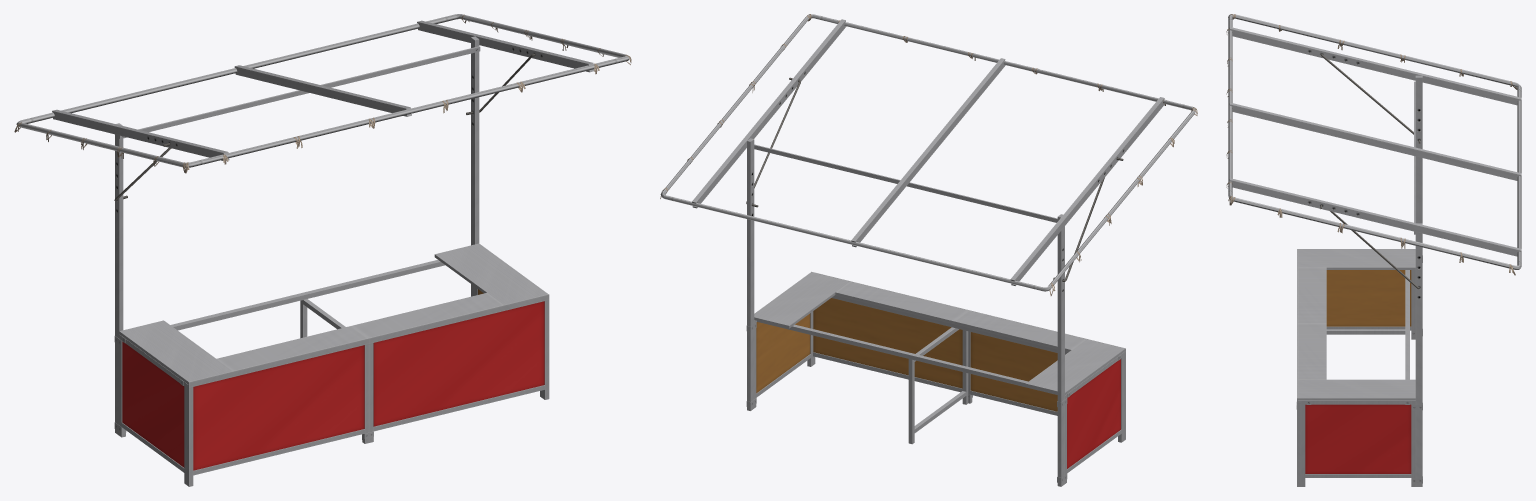
Rendered from jsf_2P_s03_c06_t04.fbx.
3 renders of one model, left to right at view 1: azimuth 30°, elevation 25°; view 2: azimuth 150°, elevation 25°; view 3: azimuth 270°, elevation 25°, orthographic. The views are drawn at different scales.
Visible parts, largest first — view 1: Base_s03_c06, Pillar2_s03, Table_2P_s03_t04, Rope_2P_s03; view 2: Base_s03_c06, Pillar2_s03, Table_2P_s03_t04, Support; view 3: Pillar2_s03, Base_s03_c06, Table_2P_s03_t04, Rope_2P_s03, Support.
Part boxes in pixels (x1,y1,x2,y2): Base_s03_c06: (114,287,549,486); Pillar2_s03: (16,14,629,435); Table_2P_s03_t04: (119,243,547,385); Rope_2P_s03: (14,14,631,173); Base_s03_c06: (746,271,1125,483); Pillar2_s03: (660,14,1196,486); Table_2P_s03_t04: (754,272,1125,397); Support: (908,327,968,444); Pillar2_s03: (1228,14,1521,486); Base_s03_c06: (1296,249,1422,486); Table_2P_s03_t04: (1298,249,1415,404); Rope_2P_s03: (1226,14,1517,275); Support: (1326,329,1405,334).
Size of the model in its own units: 316 by 244 by 211.
